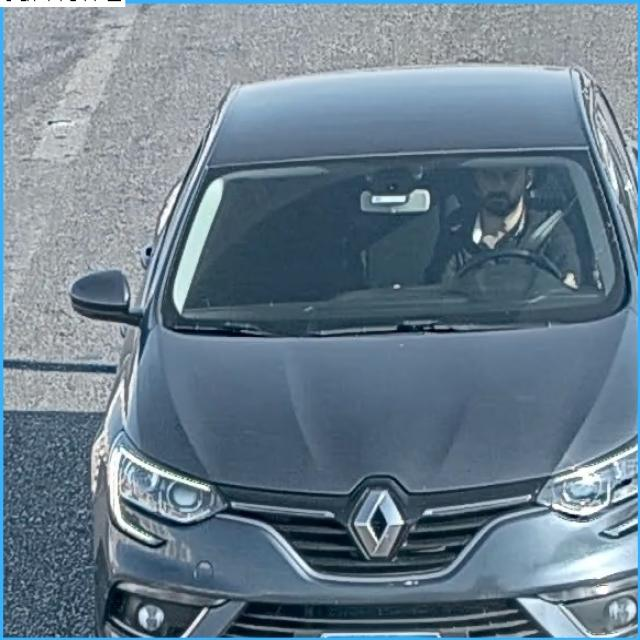windshield: (166, 169, 624, 312)
